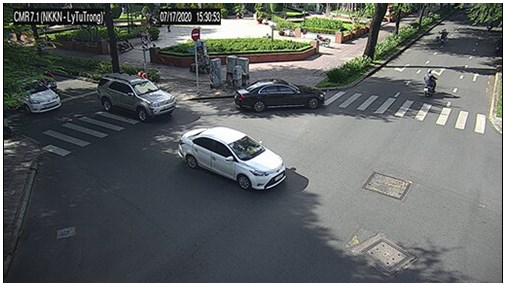xe_hoi: (178, 127, 286, 191), (98, 73, 175, 121), (234, 78, 325, 111), (16, 81, 61, 113)
xe_may: (424, 69, 438, 98), (118, 37, 134, 53), (439, 28, 447, 45), (486, 21, 492, 32)
